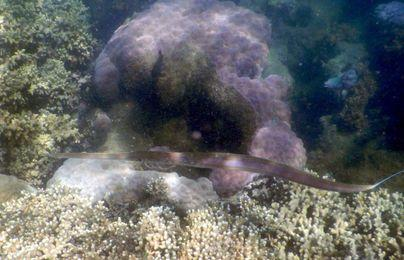Fistularia commersonii: (9, 130, 404, 233)
